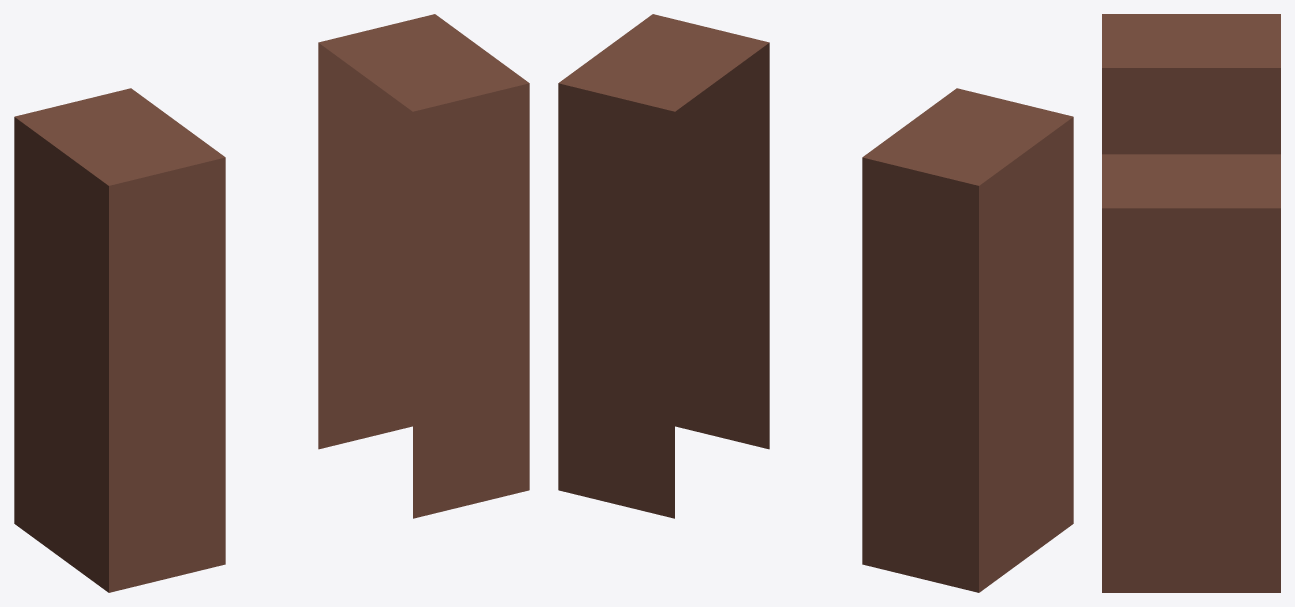
The model's file is HouseDoor.fbx.
3 renders of one model, left to right at view 1: azimuth 30°, elevation 25°; view 2: azimuth 150°, elevation 25°; view 3: azimuth 270°, elevation 25°, orthographic. The views are drawn at different scales.
Parts seen in each view (by area): view 1: Door; view 2: Door; view 3: Door.
Part boxes in pixels (x1,y1,x2,y2): Door: (14, 14, 529, 592); Door: (558, 14, 1073, 592); Door: (1102, 14, 1280, 592).
Size of the model in its own units: 86.61 by 80.04 by 33.73.
